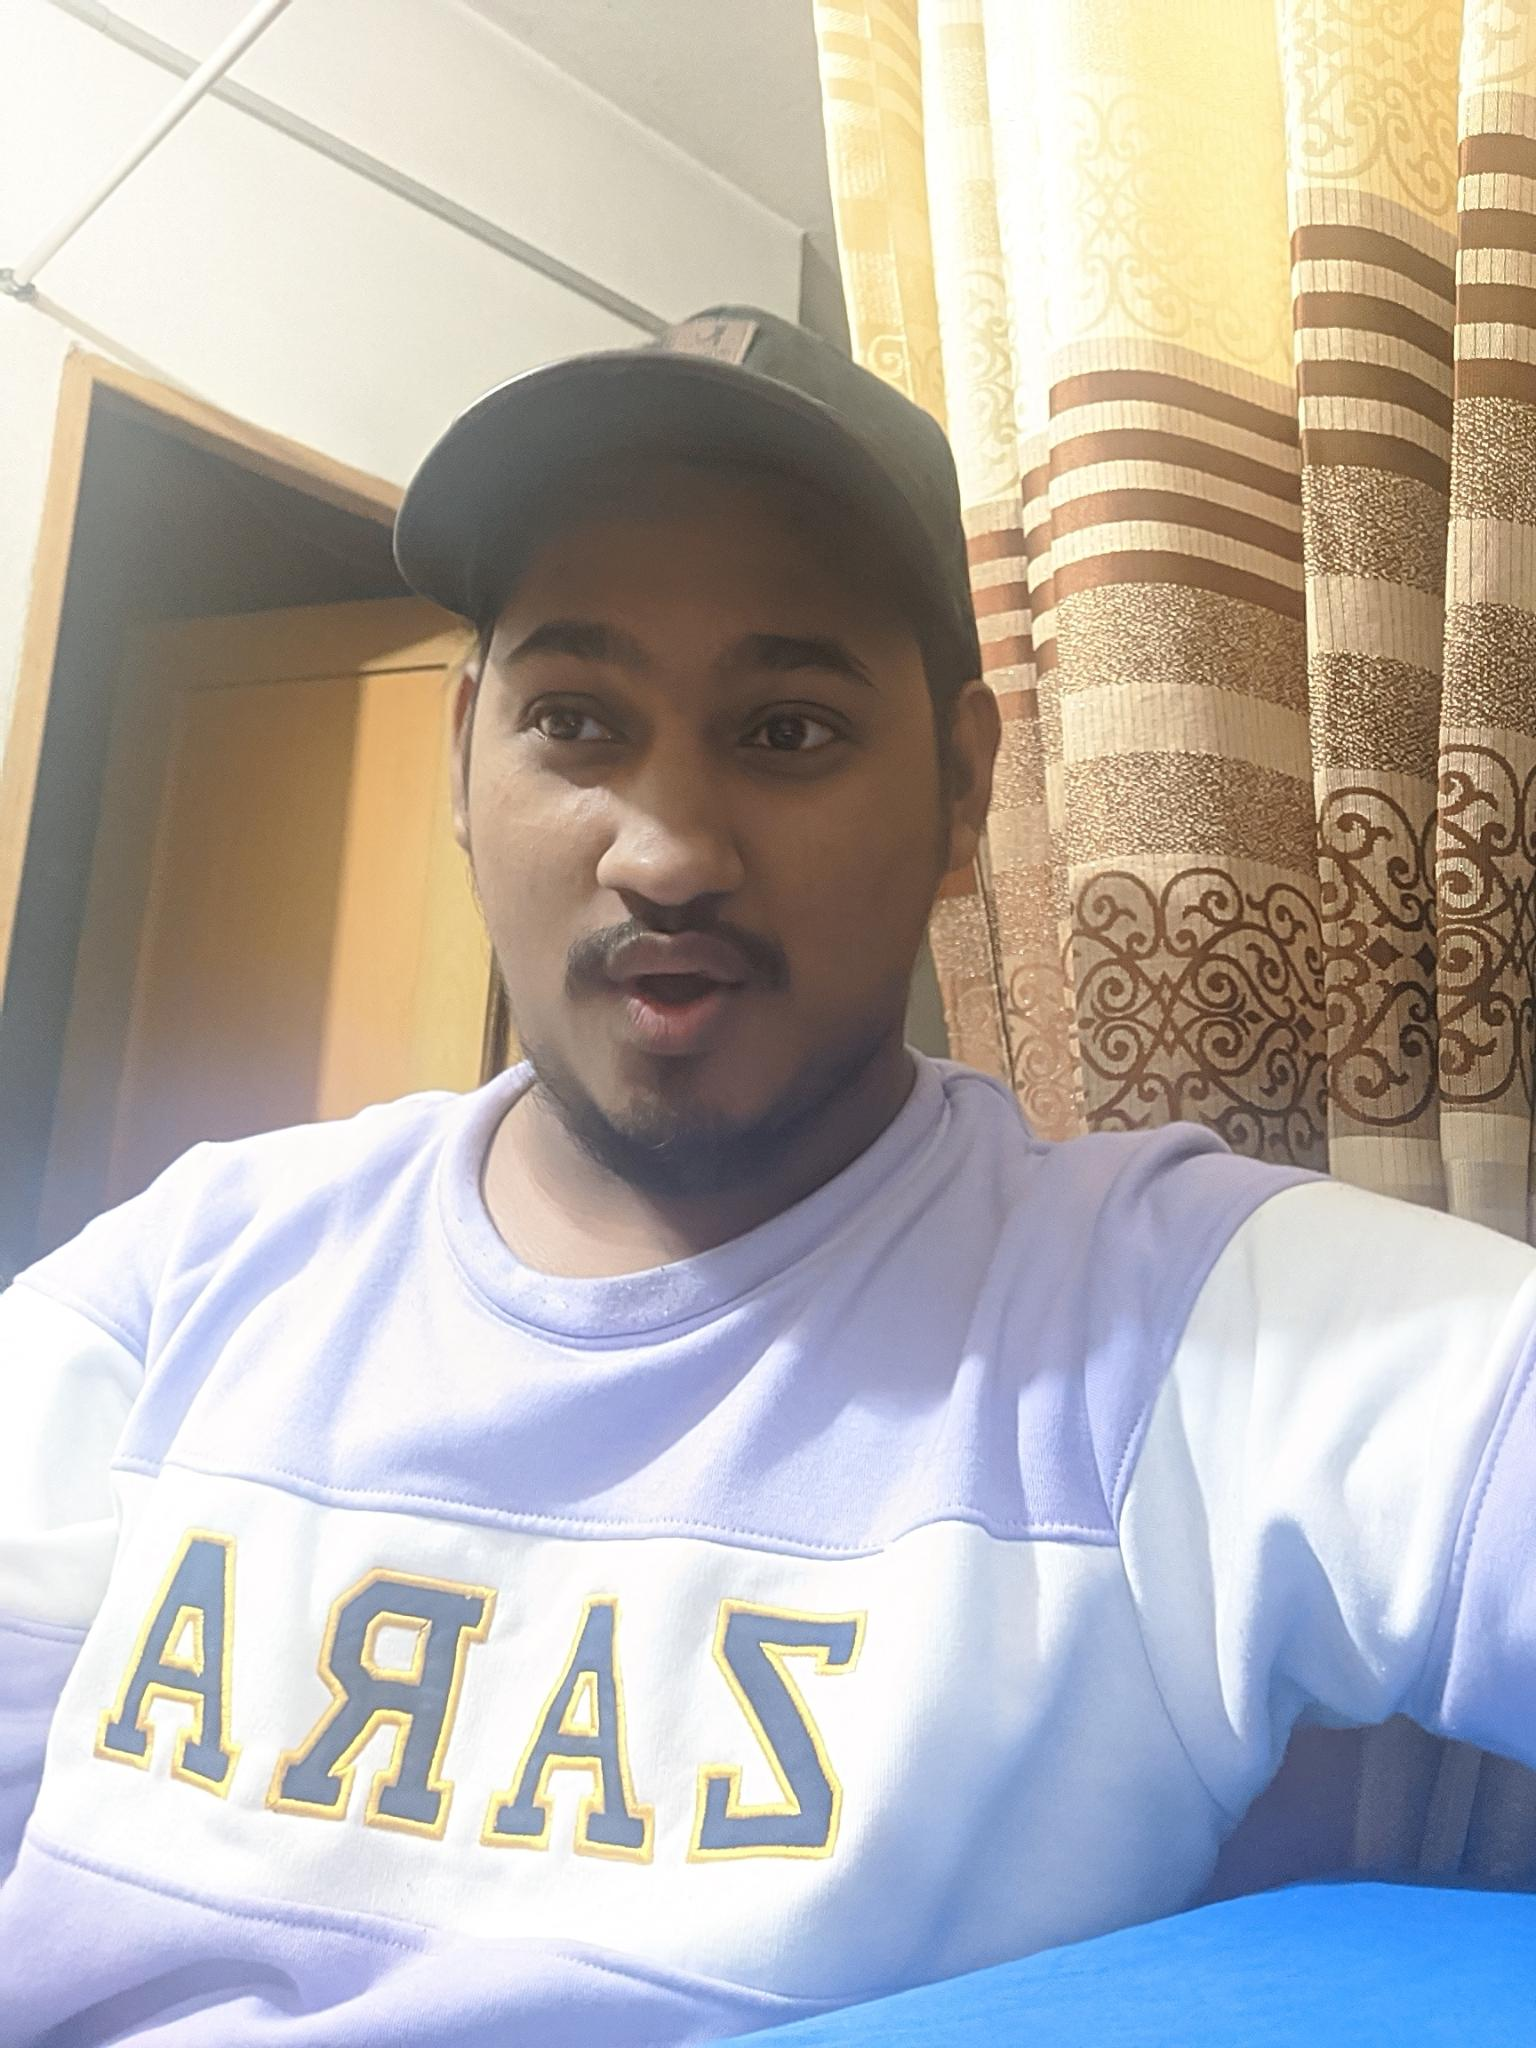Surprise: (428, 561, 966, 1151)
